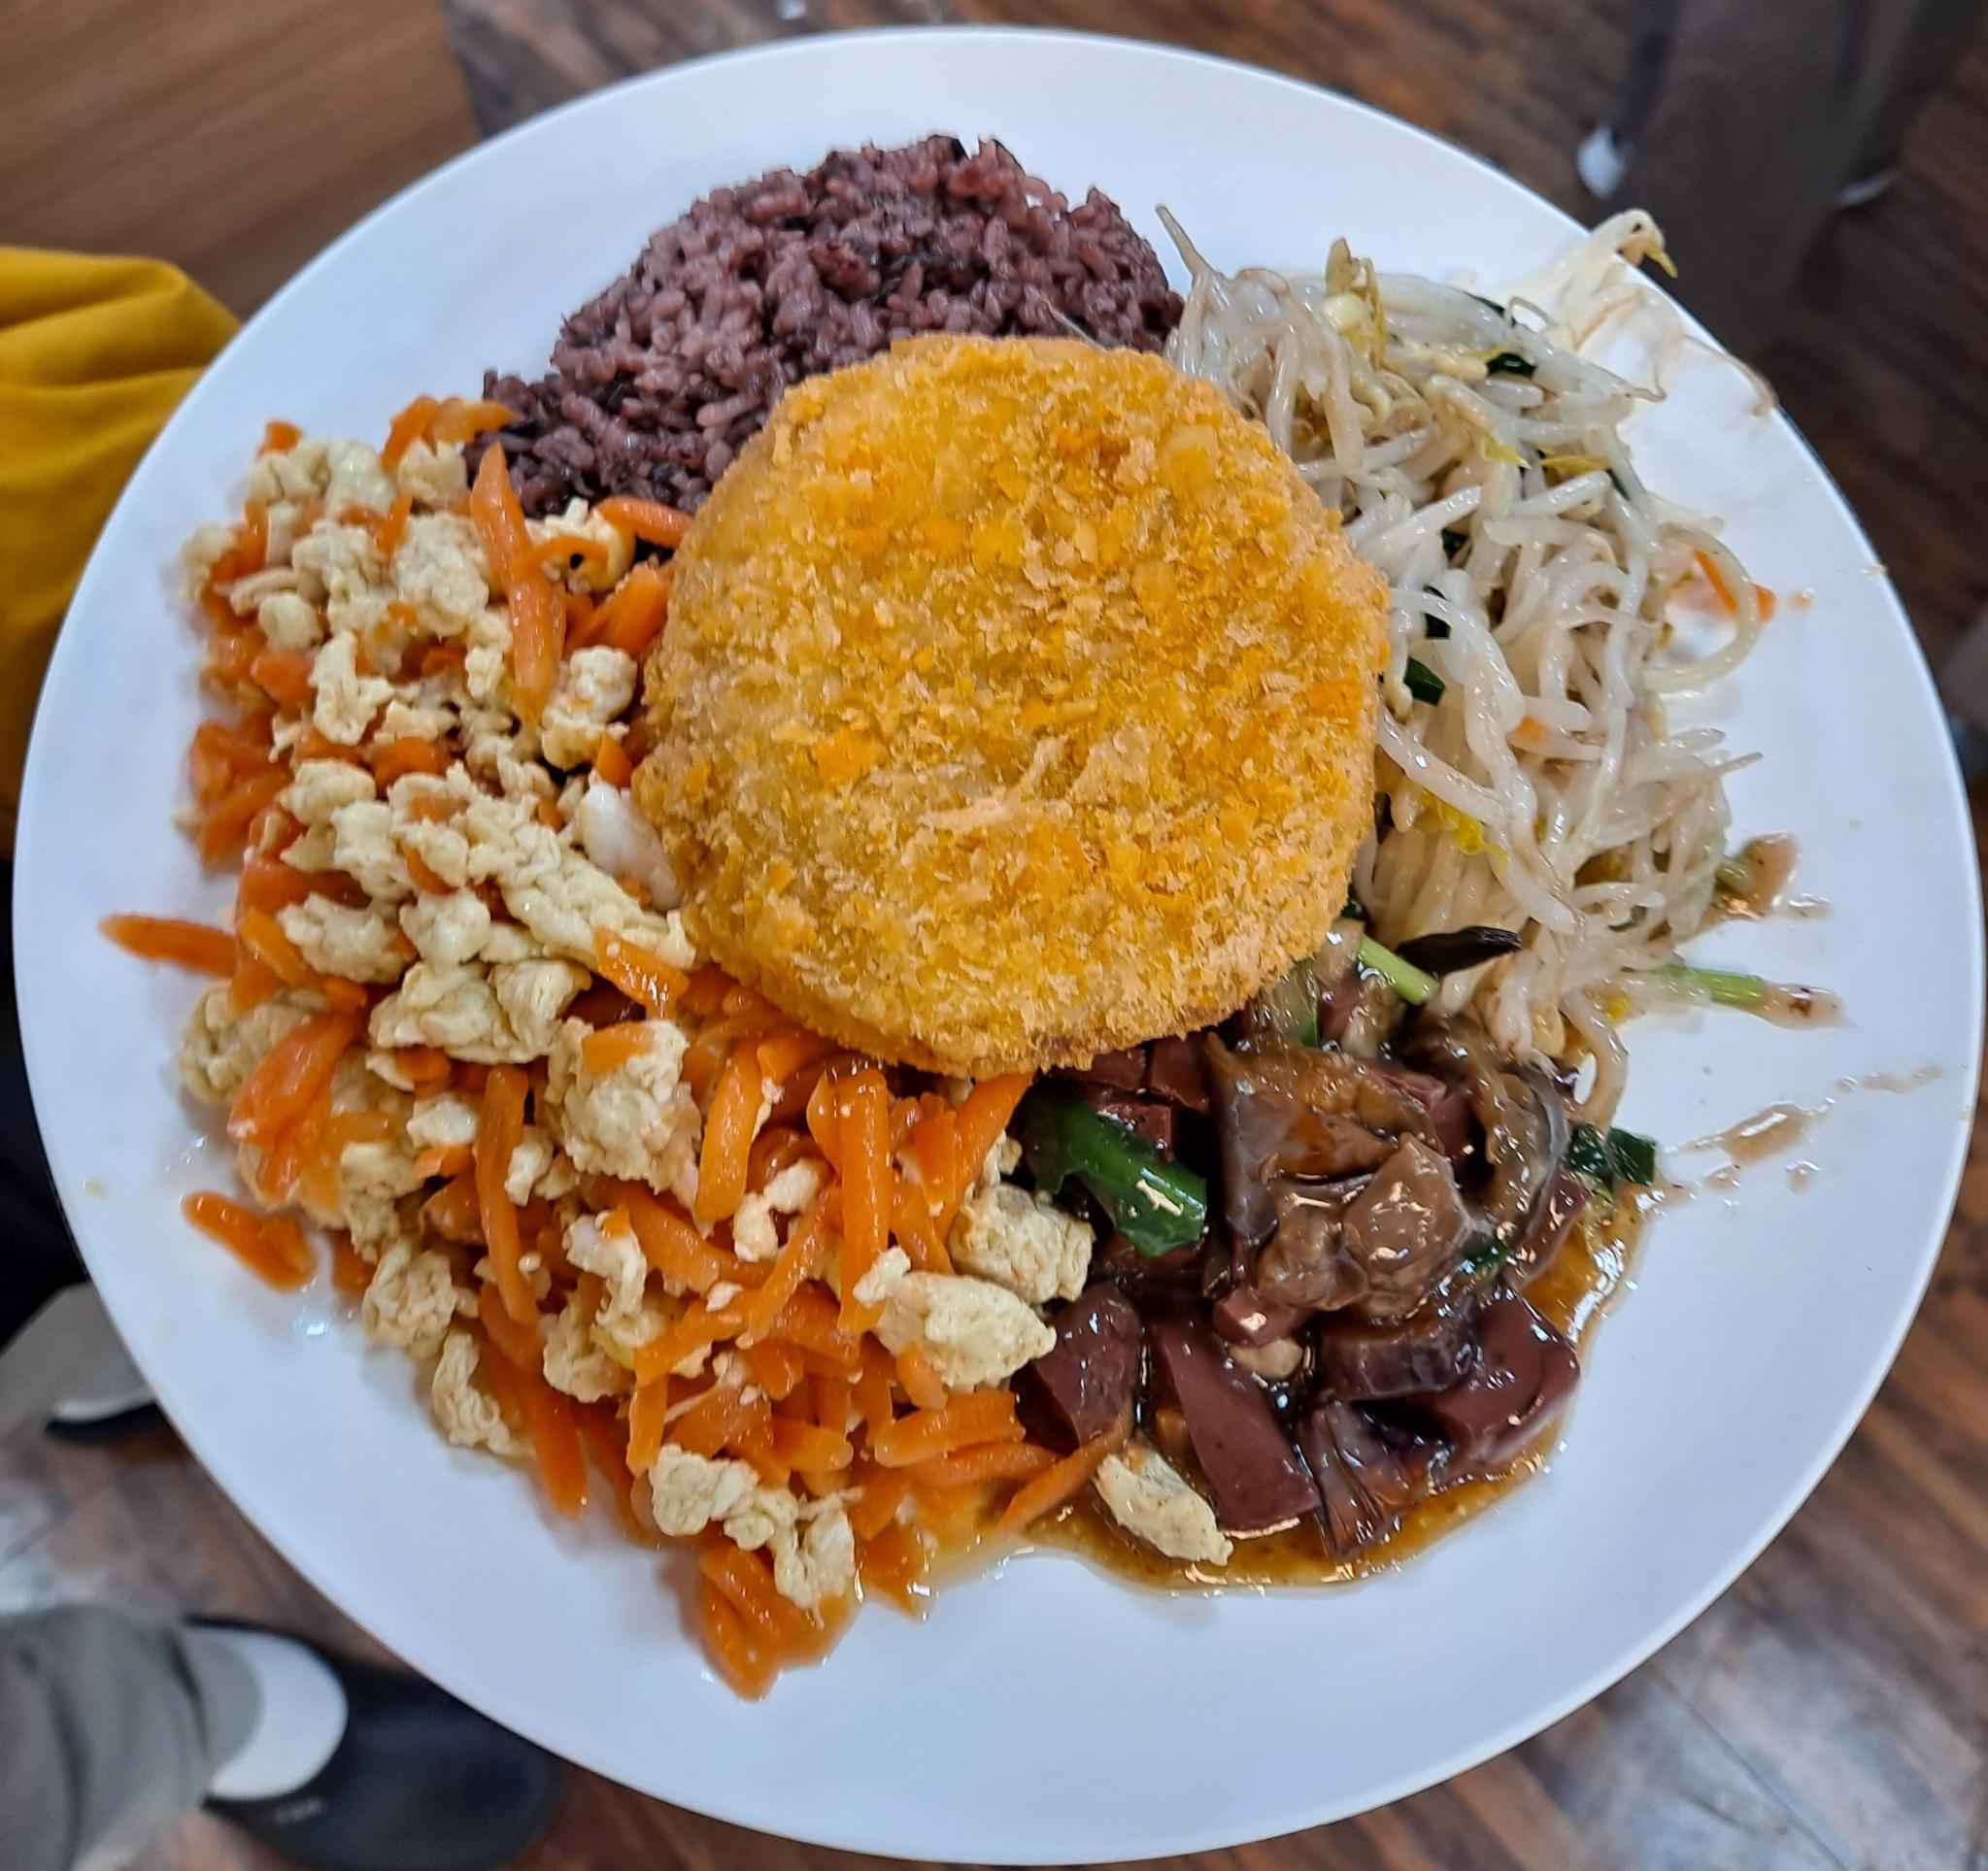big fried chicken leg: (25, 14, 1988, 1871)
braised fish: (486, 141, 1179, 492)
braised fish fillet: (150, 404, 1050, 1674), (1163, 241, 1749, 1066), (1003, 1006, 1626, 1584)
braised pork: (647, 329, 1390, 1067)
